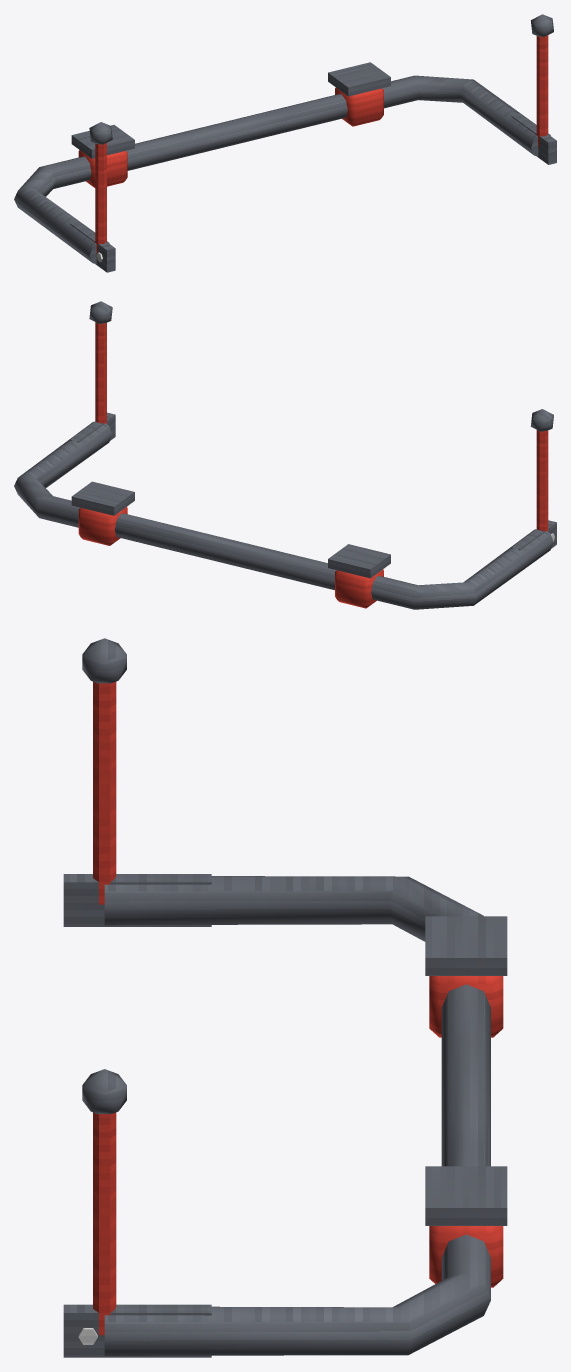
Rendered from barras_n4.glb.
The picture shows the model from 3 angles, top to bottom: view 1: azimuth 30°, elevation 25°; view 2: azimuth 150°, elevation 25°; view 3: azimuth 270°, elevation 25°; orthographic projection. The views are drawn at different scales.
Visible parts, largest first — view 1: barras_n4; view 2: barras_n4; view 3: barras_n4.
Boxes of the visible parts, x1,y1,x2,y2 form: barras_n4: [14, 14, 556, 272]; barras_n4: [14, 301, 556, 609]; barras_n4: [63, 638, 507, 1357].
Size of the model in its own units: 0.652 by 0.1985 by 0.27.
Materials: 2 (2 with a texture image).
